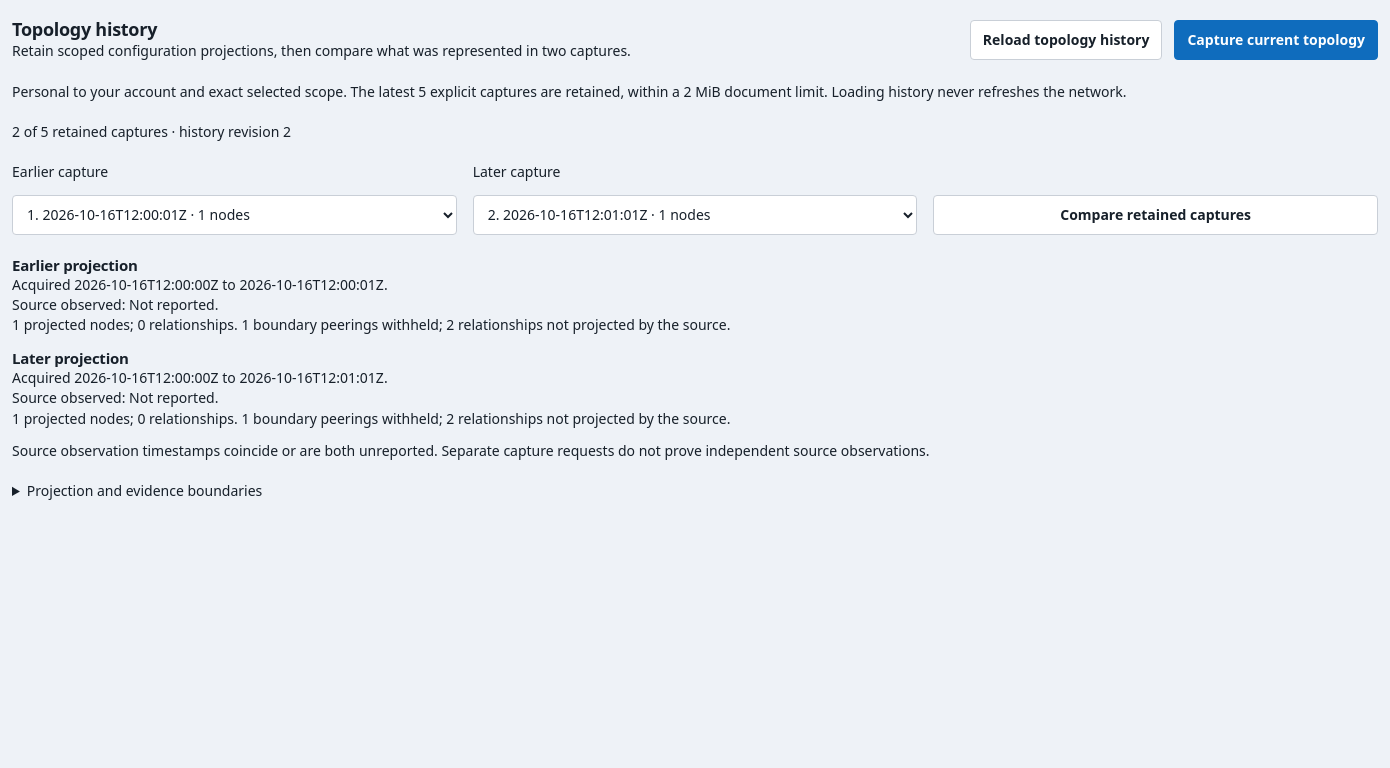
Scenario: Retained topology history › reports zero differences without claiming no infrastructure changes
expect the text "2 of 5 retained captures · history revision 2" is shown: met, box [12, 122, 291, 141]
Click the button "Compare retained captures". click: (1156, 215)
box: [933, 195, 1378, 235]
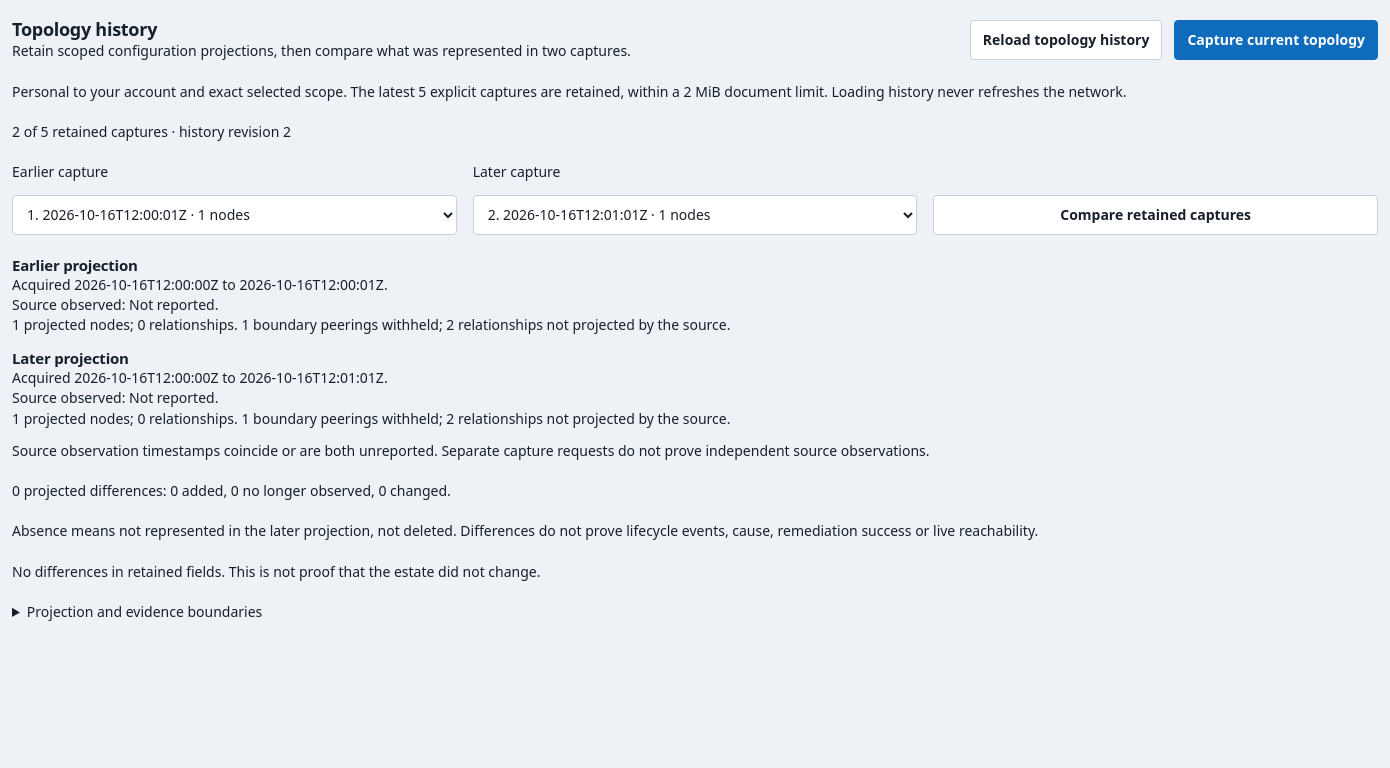
expect the text "not proof that the estate did not change" is shown: met, box [12, 562, 540, 581]
